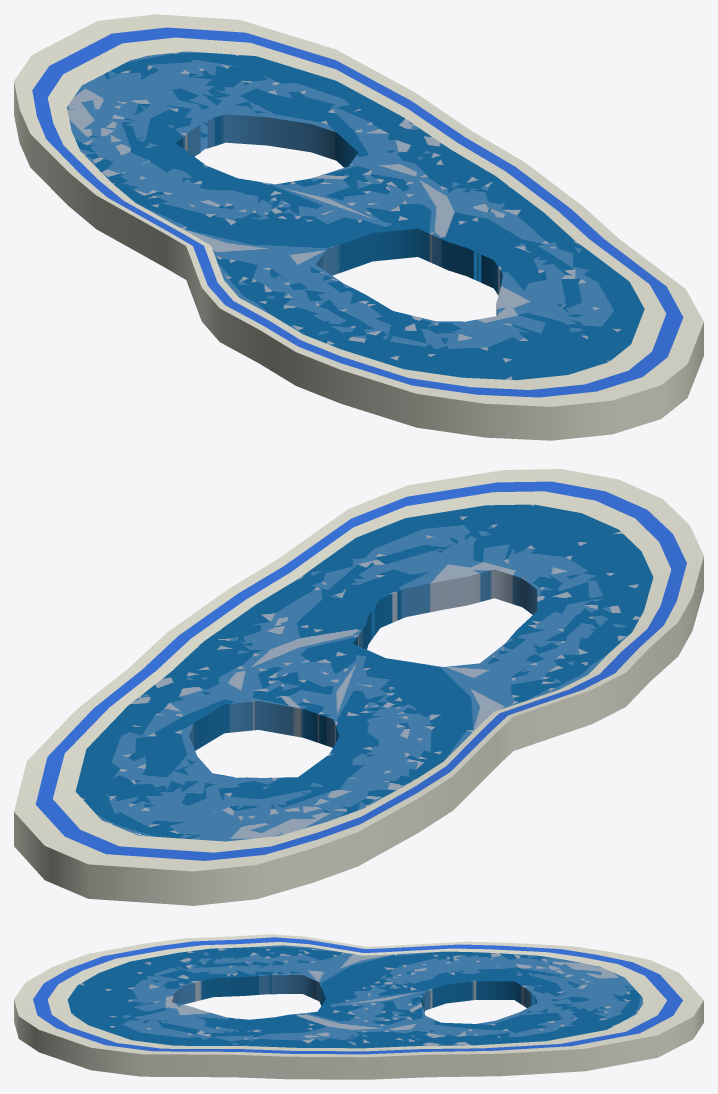
File: SM_pretzel.fbx
3 views of the same model, one above another, from view 1: azimuth 30°, elevation 25°; view 2: azimuth 150°, elevation 25°; view 3: azimuth 270°, elevation 25° (orthographic). The views are drawn at different scales.
Parts seen in each view (by area): view 1: pretzel; view 2: pretzel; view 3: pretzel.
Boxes of the visible parts, x1,y1,x2,y2 form: pretzel: (14, 14, 703, 440); pretzel: (14, 469, 703, 905); pretzel: (14, 934, 703, 1079).
Bounding box in the file's own units: 45.3 × 3.87 × 107.
